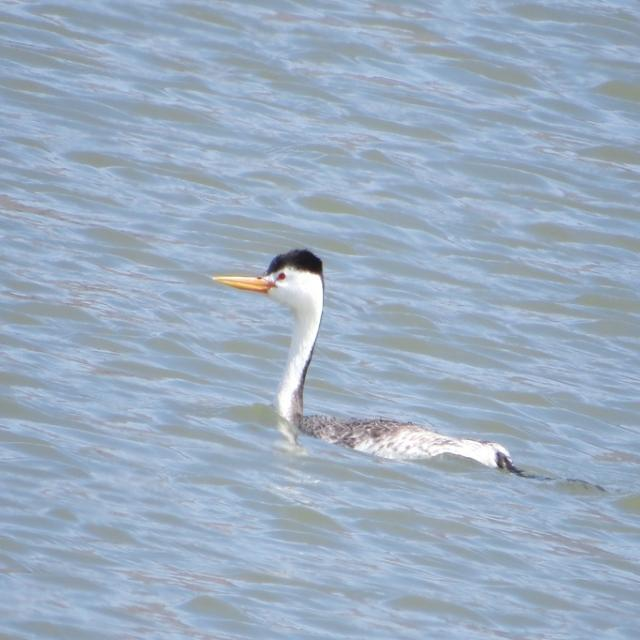bird: (208, 240, 534, 467)
